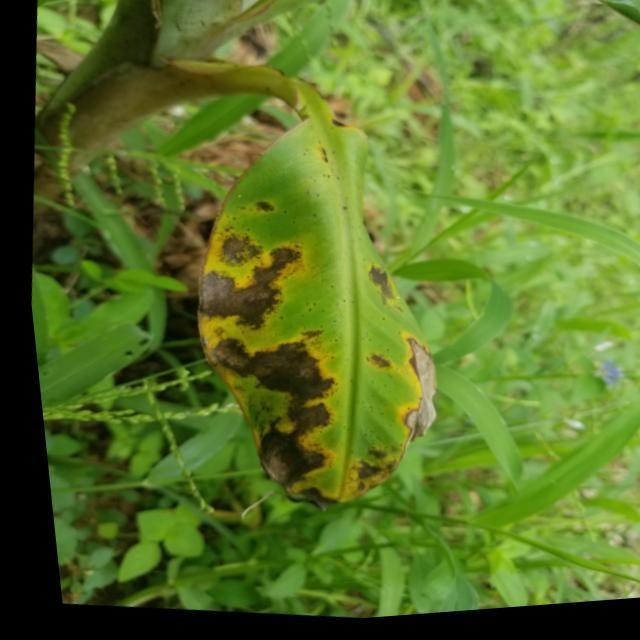Early_rust: (193, 129, 443, 521)
